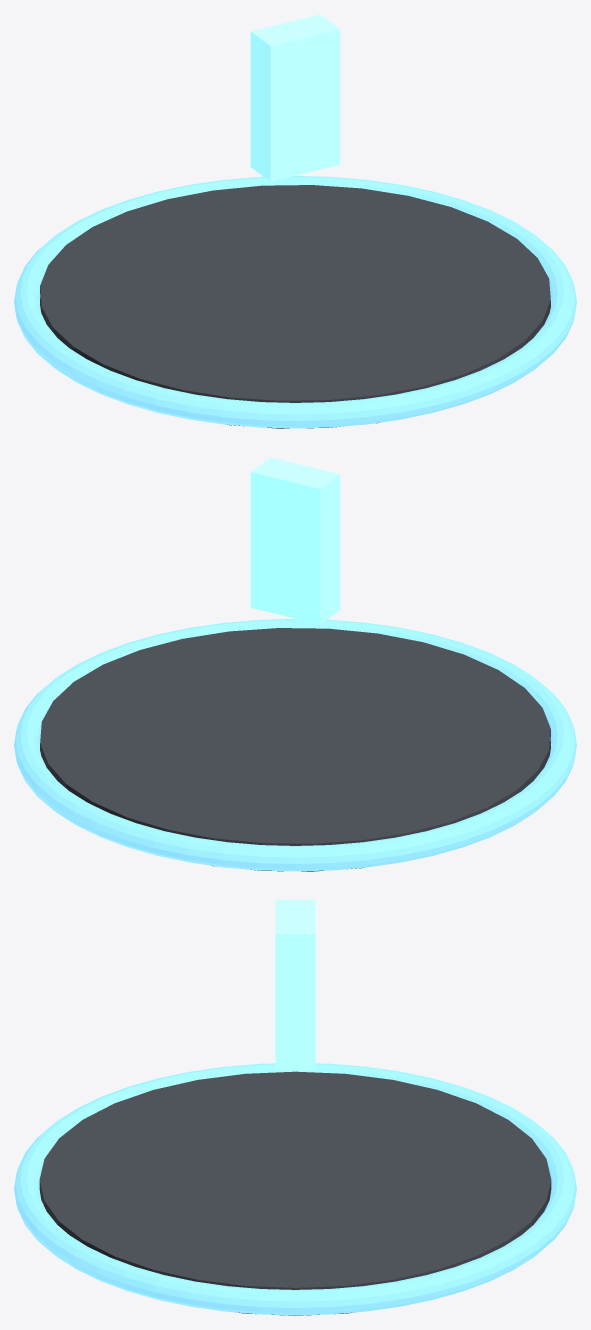
Rendered from channel_acs.glb.
3 renders of one model, top to bottom at view 1: azimuth 30°, elevation 25°; view 2: azimuth 150°, elevation 25°; view 3: azimuth 270°, elevation 25°, orthographic.
Visible parts, largest first — view 1: acs_base, acs_glow, acs_emblem; view 2: acs_base, acs_glow, acs_emblem; view 3: acs_base, acs_glow, acs_emblem.
Boxes of the visible parts, x1,y1,x2,y2 form: acs_base: (40, 185, 550, 428); acs_glow: (14, 176, 576, 428); acs_emblem: (250, 14, 340, 181); acs_base: (40, 628, 550, 871); acs_glow: (14, 619, 576, 871); acs_emblem: (250, 457, 340, 624); acs_base: (39, 1071, 551, 1315); acs_glow: (14, 1063, 576, 1315); acs_emblem: (275, 900, 315, 1069).
Bounding box in the file's own units: 2.2 × 1.25 × 2.2.
